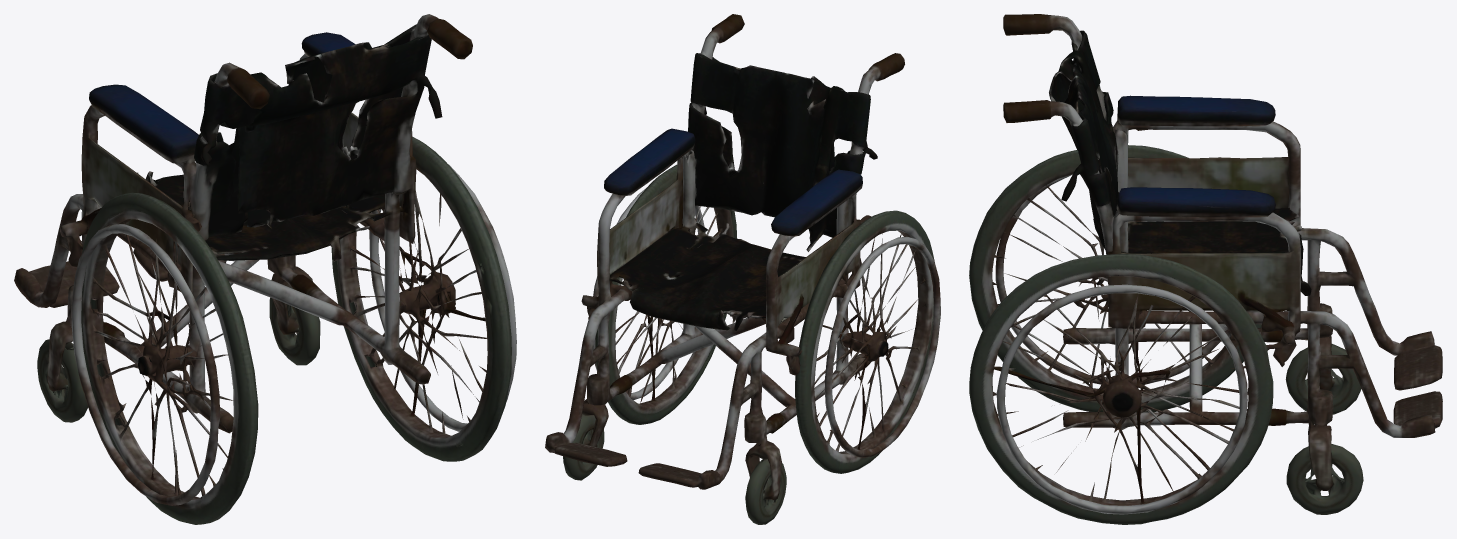
Rendered from rusty-wheelchair.glb.
The picture shows the model from 3 angles, left to right: view 1: azimuth 30°, elevation 25°; view 2: azimuth 150°, elevation 25°; view 3: azimuth 270°, elevation 25°; orthographic projection. The views are drawn at different scales.
Visible parts, largest first — view 1: world; view 2: world; view 3: world.
Part boxes in pixels (x1,y1,x2,y2): world: (14, 14, 516, 524); world: (545, 14, 940, 524); world: (969, 14, 1442, 524).
Size of the model in its own units: 0.6649 by 0.9634 by 1.
1 material, 1 textured.
